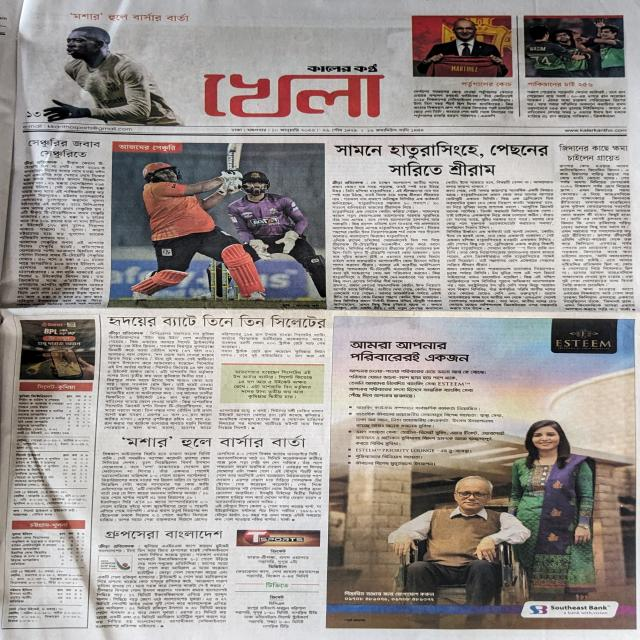advertisement: (325, 316, 638, 630), (18, 318, 97, 381), (236, 529, 320, 547), (97, 555, 133, 572)
caption: (117, 144, 177, 152)
image: (106, 142, 328, 310), (42, 23, 187, 126), (523, 15, 626, 78), (411, 15, 513, 78)
page number: (26, 111, 42, 118)
paragraph: (94, 543, 230, 629), (558, 164, 634, 288), (19, 160, 106, 240), (16, 240, 105, 307), (104, 377, 214, 430), (214, 451, 323, 504), (100, 451, 210, 500), (106, 331, 215, 379), (331, 238, 441, 284), (446, 266, 558, 311), (445, 188, 554, 229), (445, 229, 555, 267), (331, 209, 440, 239), (331, 180, 440, 210), (332, 283, 444, 311), (412, 89, 514, 118), (525, 90, 627, 119), (99, 499, 209, 522), (217, 407, 325, 430), (214, 504, 322, 522), (219, 332, 327, 349), (562, 287, 635, 312), (445, 180, 554, 189), (220, 349, 326, 358)
table: (15, 393, 92, 436), (9, 531, 87, 567), (14, 452, 90, 487), (8, 587, 84, 604), (11, 532, 33, 536)
text: (233, 594, 319, 629), (231, 369, 314, 399), (68, 11, 191, 23), (6, 607, 83, 624), (235, 564, 320, 579), (13, 490, 88, 506), (9, 569, 84, 585), (246, 548, 309, 565), (230, 128, 425, 133), (22, 124, 134, 132), (16, 438, 90, 450), (10, 508, 78, 517), (562, 128, 628, 133), (96, 544, 141, 549), (106, 330, 148, 335), (22, 160, 63, 165), (14, 475, 54, 480), (17, 416, 66, 420), (17, 409, 64, 413), (331, 180, 368, 185), (15, 457, 61, 461), (17, 431, 61, 435), (15, 464, 59, 468), (18, 398, 61, 402), (16, 427, 58, 431), (15, 460, 56, 464), (15, 468, 51, 472), (18, 394, 53, 398), (14, 483, 49, 487), (18, 402, 64, 405), (17, 405, 49, 409), (14, 472, 46, 476), (14, 479, 45, 483), (15, 453, 42, 457), (17, 420, 49, 423), (9, 588, 33, 592), (17, 413, 48, 416), (17, 424, 48, 427), (10, 592, 33, 595), (10, 596, 32, 599), (9, 599, 25, 603), (62, 453, 70, 457), (71, 453, 79, 457), (57, 547, 65, 551), (56, 588, 64, 592), (59, 532, 66, 536), (62, 432, 70, 435), (72, 457, 78, 461), (66, 395, 73, 398), (63, 457, 70, 460), (70, 472, 77, 475), (67, 532, 74, 535), (65, 589, 72, 592), (65, 593, 72, 596), (72, 468, 77, 472), (74, 413, 80, 416), (66, 413, 72, 416), (66, 406, 72, 409), (66, 402, 72, 405), (75, 402, 81, 405), (75, 395, 81, 398), (63, 465, 69, 468), (71, 465, 77, 468), (62, 472, 68, 475), (59, 536, 65, 539), (68, 536, 74, 539), (67, 548, 73, 551), (59, 555, 65, 558), (66, 596, 72, 599), (57, 596, 63, 599), (76, 420, 80, 424), (75, 424, 80, 427), (76, 410, 81, 413), (75, 406, 80, 409), (65, 461, 70, 464), (63, 469, 68, 472), (69, 551, 74, 554), (80, 551, 85, 554), (67, 424, 71, 427), (76, 417, 80, 420), (82, 417, 86, 420), (87, 417, 91, 420), (68, 410, 72, 413), (88, 399, 92, 402), (83, 399, 87, 402), (77, 398, 81, 401), (80, 454, 84, 457), (85, 454, 89, 457), (73, 461, 77, 464), (85, 461, 89, 464), (79, 465, 83, 468), (84, 468, 88, 471), (80, 468, 83, 472), (79, 472, 83, 475), (84, 476, 88, 479), (79, 476, 83, 479), (64, 476, 68, 479), (64, 480, 68, 483), (73, 479, 76, 483), (79, 480, 83, 483), (64, 483, 68, 486), (76, 532, 80, 535), (81, 532, 85, 535), (76, 536, 80, 539), (81, 536, 85, 539), (69, 544, 73, 547), (76, 543, 79, 547), (75, 547, 79, 550), (61, 551, 64, 555), (61, 559, 65, 562), (69, 559, 73, 562), (75, 559, 79, 562), (79, 589, 83, 592), (79, 596, 82, 600), (57, 593, 63, 595), (59, 600, 63, 603), (67, 428, 70, 431), (68, 417, 71, 420), (87, 424, 90, 427), (82, 421, 85, 424), (88, 406, 91, 409), (83, 406, 86, 409), (84, 395, 87, 398), (89, 395, 92, 398), (80, 458, 83, 461), (80, 461, 83, 464), (85, 465, 88, 468), (73, 476, 76, 479), (84, 480, 87, 483), (62, 540, 65, 543), (70, 540, 73, 543), (77, 540, 80, 543), (62, 544, 65, 547), (81, 547, 84, 550), (76, 551, 79, 554), (70, 555, 73, 558), (76, 555, 79, 558), (81, 555, 84, 558), (61, 562, 64, 565), (74, 589, 77, 592), (79, 593, 82, 596), (74, 592, 77, 595), (67, 421, 71, 423), (81, 425, 85, 427), (87, 410, 91, 412), (83, 403, 87, 405), (68, 399, 72, 401), (84, 473, 88, 475), (81, 540, 85, 542), (81, 544, 85, 546), (80, 559, 84, 561), (87, 421, 90, 423), (88, 414, 91, 416), (83, 414, 86, 416), (83, 410, 86, 412), (88, 403, 91, 405), (85, 458, 88, 460), (74, 597, 77, 599)
title: (200, 61, 390, 121), (332, 139, 551, 179), (106, 314, 328, 329), (117, 433, 309, 450), (25, 137, 103, 160), (102, 529, 224, 541), (557, 143, 629, 162), (526, 81, 593, 88), (459, 81, 513, 88), (26, 521, 71, 529), (35, 384, 77, 391), (264, 581, 290, 589)
